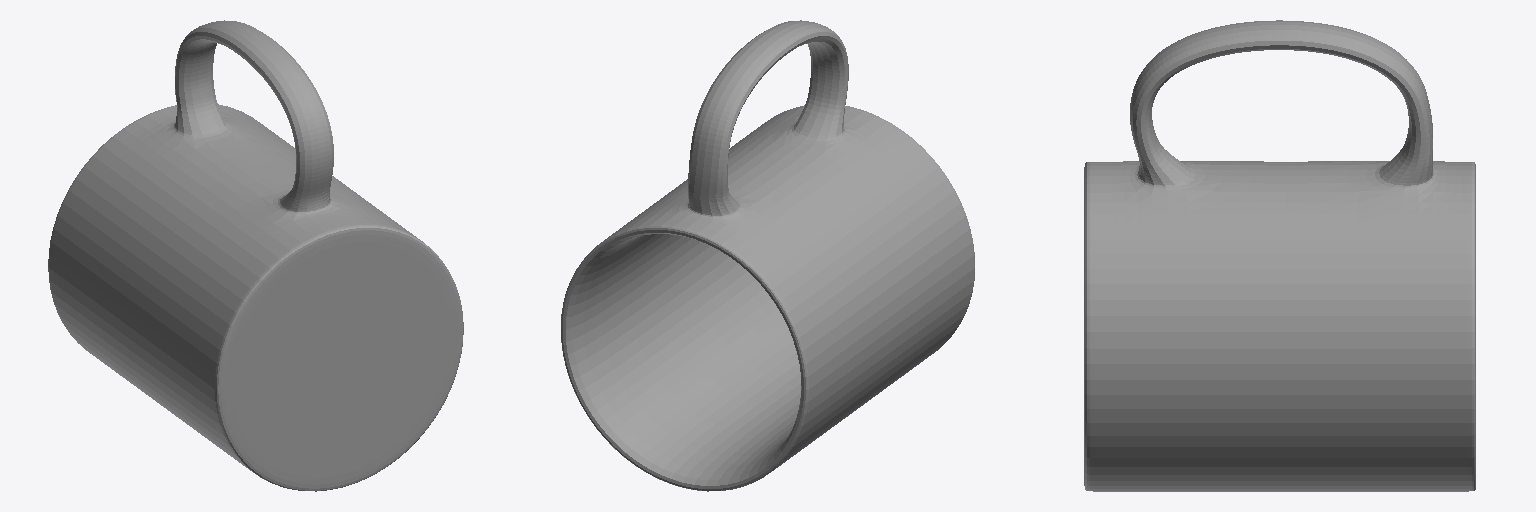
robot.urdf — mug:
<robot name="mug">
  <link name="mug">
    <inertial>
      <mass value=".25" />
      <origin rpy="0 0 0" xyz="0 0 0" />
      <inertia ixx="0.01" ixy="0" ixz="0" iyy="0.01" iyz="0" izz="0.01" />
    </inertial>
    <visual>
      <origin rpy="0 0 0" xyz="0 0 0" />
      <geometry>
          <mesh filename="mug.obj" scale="0.018 0.018 0.018" />
      </geometry>
      <material name="Grey">
        <color rgba="0.65 0.65 0.65 1" />
      </material>
    </visual>
  <collision><origin rpy="0 0 0" xyz="0 0 0" /><geometry><mesh filename="mug_vhacd/mug_convex0.obj" scale="0.018 0.018 0.018" /></geometry></collision><collision><origin rpy="0 0 0" xyz="0 0 0" /><geometry><mesh filename="mug_vhacd/mug_convex1.obj" scale="0.018 0.018 0.018" /></geometry></collision><collision><origin rpy="0 0 0" xyz="0 0 0" /><geometry><mesh filename="mug_vhacd/mug_convex2.obj" scale="0.018 0.018 0.018" /></geometry></collision><collision><origin rpy="0 0 0" xyz="0 0 0" /><geometry><mesh filename="mug_vhacd/mug_convex3.obj" scale="0.018 0.018 0.018" /></geometry></collision><collision><origin rpy="0 0 0" xyz="0 0 0" /><geometry><mesh filename="mug_vhacd/mug_convex4.obj" scale="0.018 0.018 0.018" /></geometry></collision><collision><origin rpy="0 0 0" xyz="0 0 0" /><geometry><mesh filename="mug_vhacd/mug_convex5.obj" scale="0.018 0.018 0.018" /></geometry></collision><collision><origin rpy="0 0 0" xyz="0 0 0" /><geometry><mesh filename="mug_vhacd/mug_convex6.obj" scale="0.018 0.018 0.018" /></geometry></collision><collision><origin rpy="0 0 0" xyz="0 0 0" /><geometry><mesh filename="mug_vhacd/mug_convex7.obj" scale="0.018 0.018 0.018" /></geometry></collision><collision><origin rpy="0 0 0" xyz="0 0 0" /><geometry><mesh filename="mug_vhacd/mug_convex8.obj" scale="0.018 0.018 0.018" /></geometry></collision><collision><origin rpy="0 0 0" xyz="0 0 0" /><geometry><mesh filename="mug_vhacd/mug_convex9.obj" scale="0.018 0.018 0.018" /></geometry></collision><collision><origin rpy="0 0 0" xyz="0 0 0" /><geometry><mesh filename="mug_vhacd/mug_convex10.obj" scale="0.018 0.018 0.018" /></geometry></collision><collision><origin rpy="0 0 0" xyz="0 0 0" /><geometry><mesh filename="mug_vhacd/mug_convex11.obj" scale="0.018 0.018 0.018" /></geometry></collision><collision><origin rpy="0 0 0" xyz="0 0 0" /><geometry><mesh filename="mug_vhacd/mug_convex12.obj" scale="0.018 0.018 0.018" /></geometry></collision><collision><origin rpy="0 0 0" xyz="0 0 0" /><geometry><mesh filename="mug_vhacd/mug_convex13.obj" scale="0.018 0.018 0.018" /></geometry></collision></link>
</robot>

--- Facts derived from the render (not from the file) ---
The picture shows the robot from 3 angles, left to right: view 1: azimuth 30°, elevation 25°; view 2: azimuth 150°, elevation 25°; view 3: azimuth 270°, elevation 25°; orthographic projection.
Model mug with 1 links and 0 joints (none), rooted at mug, posed every joint at zero.
Visible links, largest first — view 1: mug; view 2: mug; view 3: mug.
Boxes of the visible links, bbox=[...] form: mug: bbox=[48, 20, 463, 491]; mug: bbox=[561, 20, 974, 491]; mug: bbox=[1084, 20, 1475, 491].
Size in the robot's own frame: 0.1439 by 0.1709 by 0.2165 metres.
1 mesh visuals loaded from 1 distinct referenced files (1 OBJ).